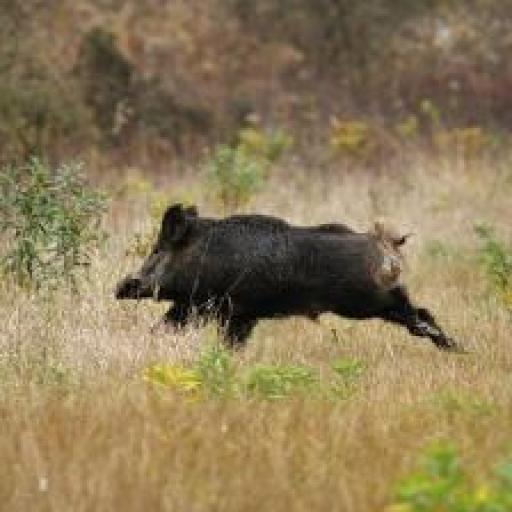Pig: (114, 203, 455, 350)
